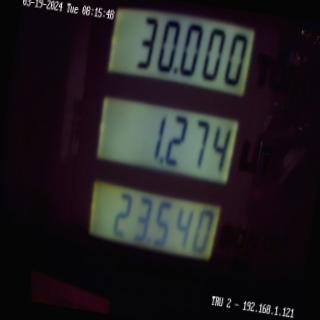screen: (63, 0, 270, 294)
